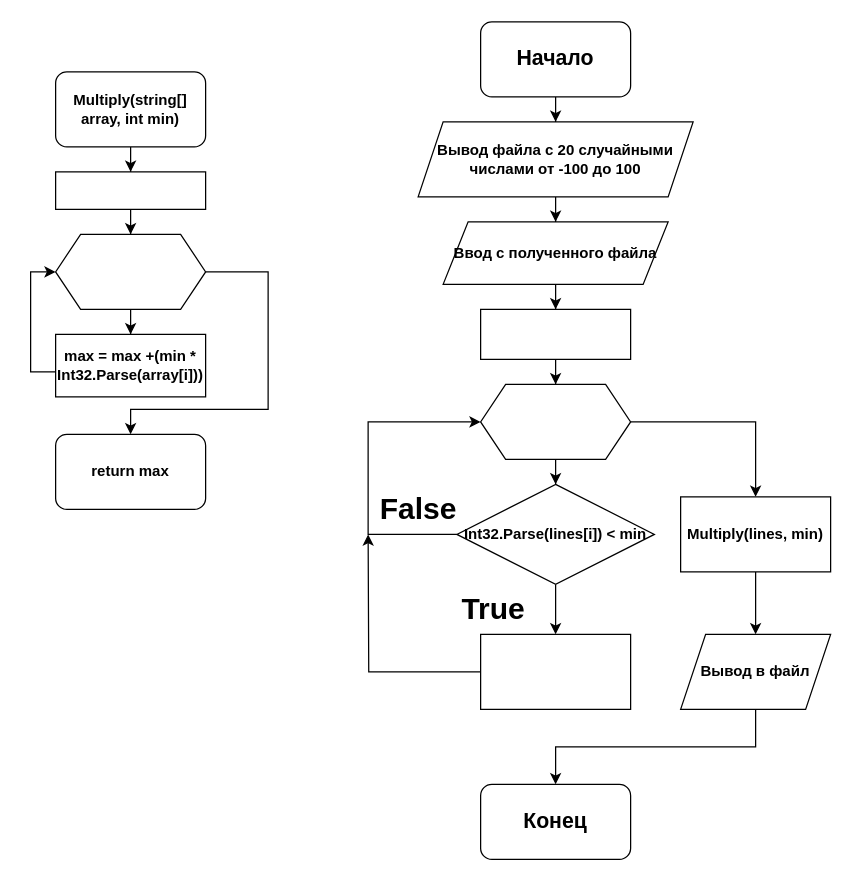
The diagram is 853 pixels wide and 881 high, and some of its shapes have lost their labels. Each missing label, with the centre of its shape:
int i = 0; i < array.Length; i++: point (130, 271)
int i = 0; i < lines.Length; i++: point (555, 421)
int max = 1: point (130, 190)
int min = 9999999: point (555, 333)
min = Int32.Parse(lines[i]): point (555, 671)
